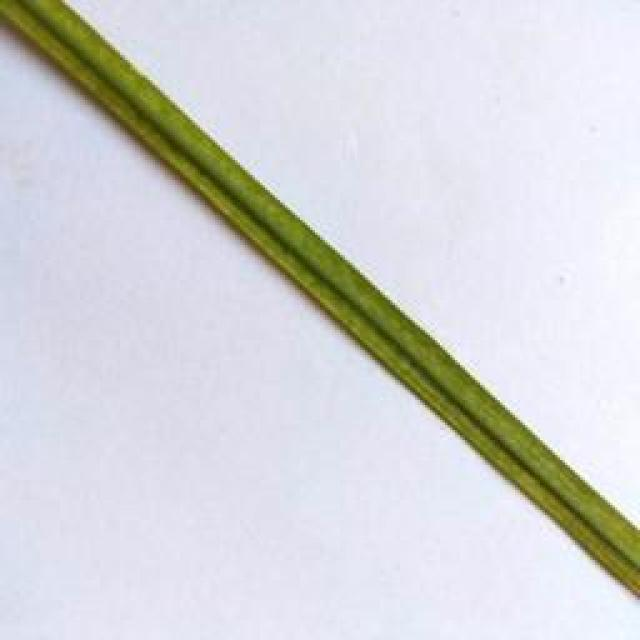Healthy-Plant: (3, 1, 640, 602)
